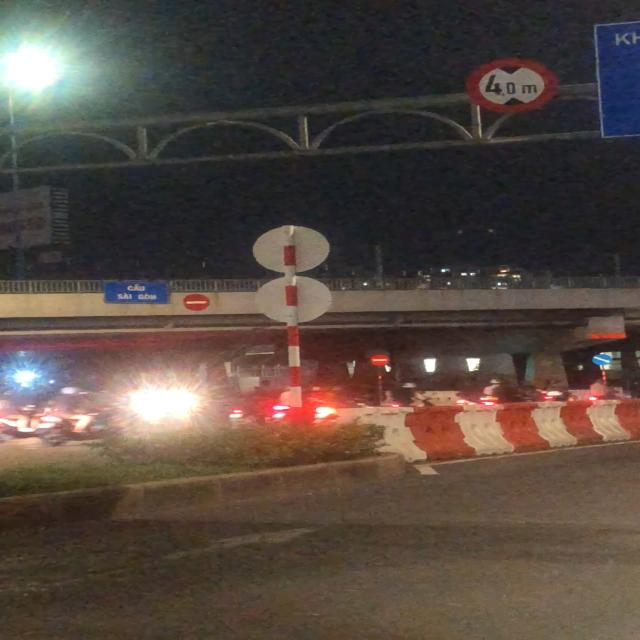Bien bao cam di nguoc chieu: (181, 290, 217, 312), (369, 354, 391, 366)
Bien bao han che chieu cao: (466, 55, 560, 114)
Bien bao huong phai di vong chuong ngai vat: (591, 352, 612, 366)
